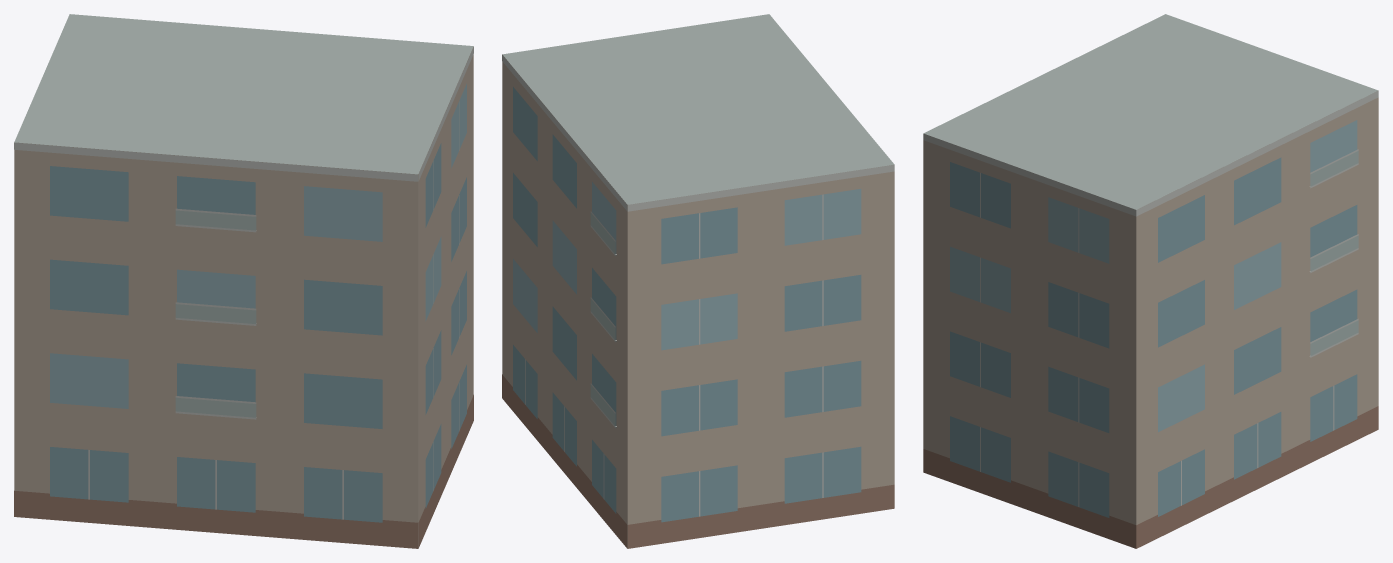
The model's file is survey-upis-32693091.glb.
3 views of the same model, side by side, from view 1: azimuth 30°, elevation 25°; view 2: azimuth 150°, elevation 25°; view 3: azimuth 270°, elevation 25° (orthographic). The views are drawn at different scales.
Parts seen in each view (by area): view 1: survey-upis-32693091.tmp; view 2: survey-upis-32693091.tmp; view 3: survey-upis-32693091.tmp.
Part boxes in pixels (x1,y1,x2,y2): survey-upis-32693091.tmp: (14,14,473,548); survey-upis-32693091.tmp: (502,14,894,548); survey-upis-32693091.tmp: (923,14,1378,548).
Bounding box in the file's own units: 15.25 × 12.3 × 14.98.
